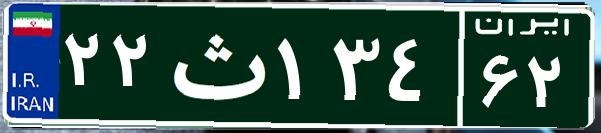1: (273, 28, 330, 110)
2: (57, 26, 110, 107), (110, 28, 158, 105), (525, 38, 570, 115)
3: (330, 28, 385, 110)
4: (385, 28, 445, 110)
6: (475, 38, 525, 113)
ث: (158, 15, 273, 115)
